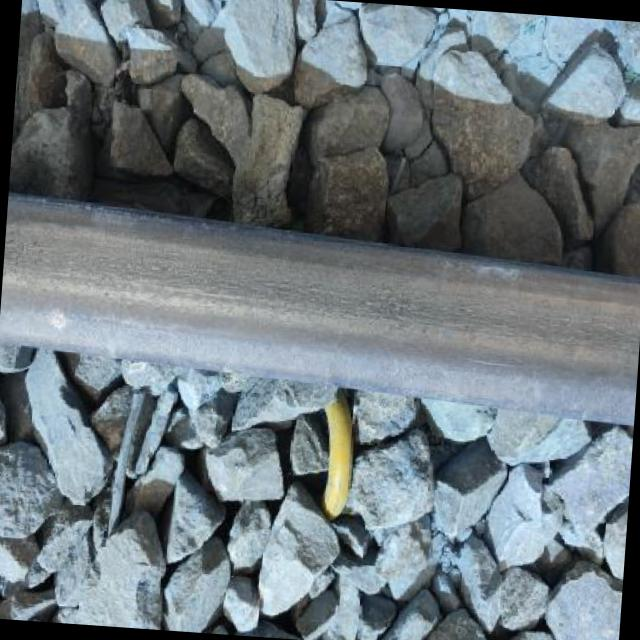non-defective: (0, 158, 627, 483)
